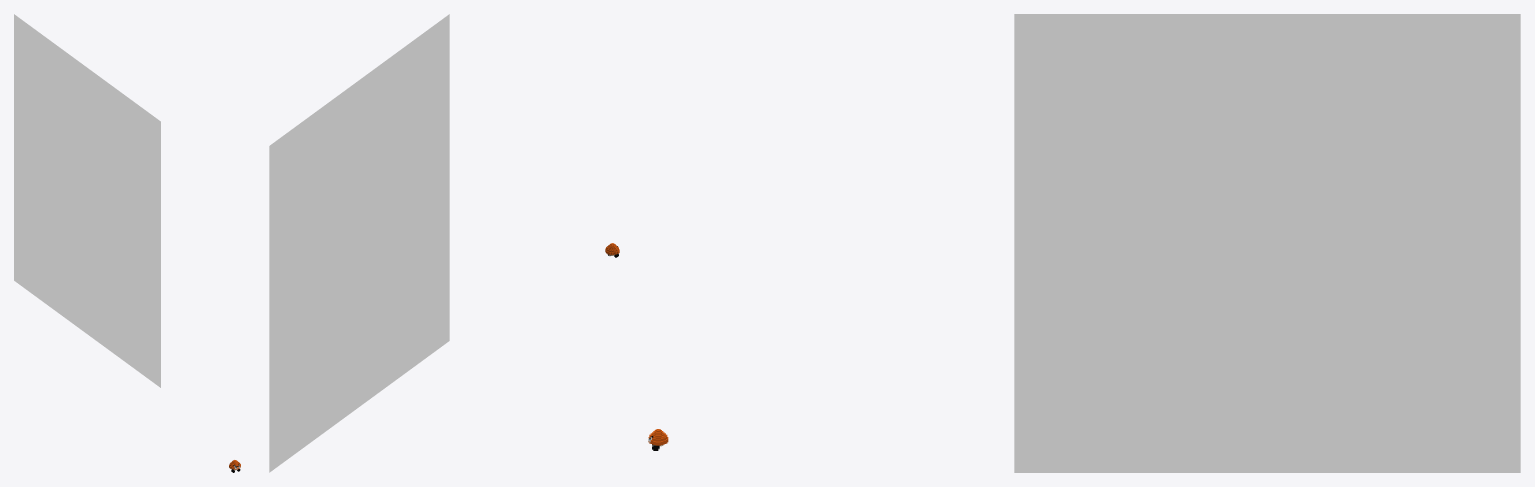
File: char_gumba.obj
3 renders of one model, left to right at view 1: azimuth 30°, elevation 25°; view 2: azimuth 150°, elevation 25°; view 3: azimuth 270°, elevation 25°, orthographic. The views are drawn at different scales.
Visible parts, largest first — view 1: Ebene; view 2: Ebene; view 3: Ebene.
Part boxes in pixels (x1,y1,x2,y2): Ebene: (14,14,160,387); Ebene: (269,14,449,472); Ebene: (1014,14,1520,472).
Size of the model in its own units: 54.21 by 400 by 689.
